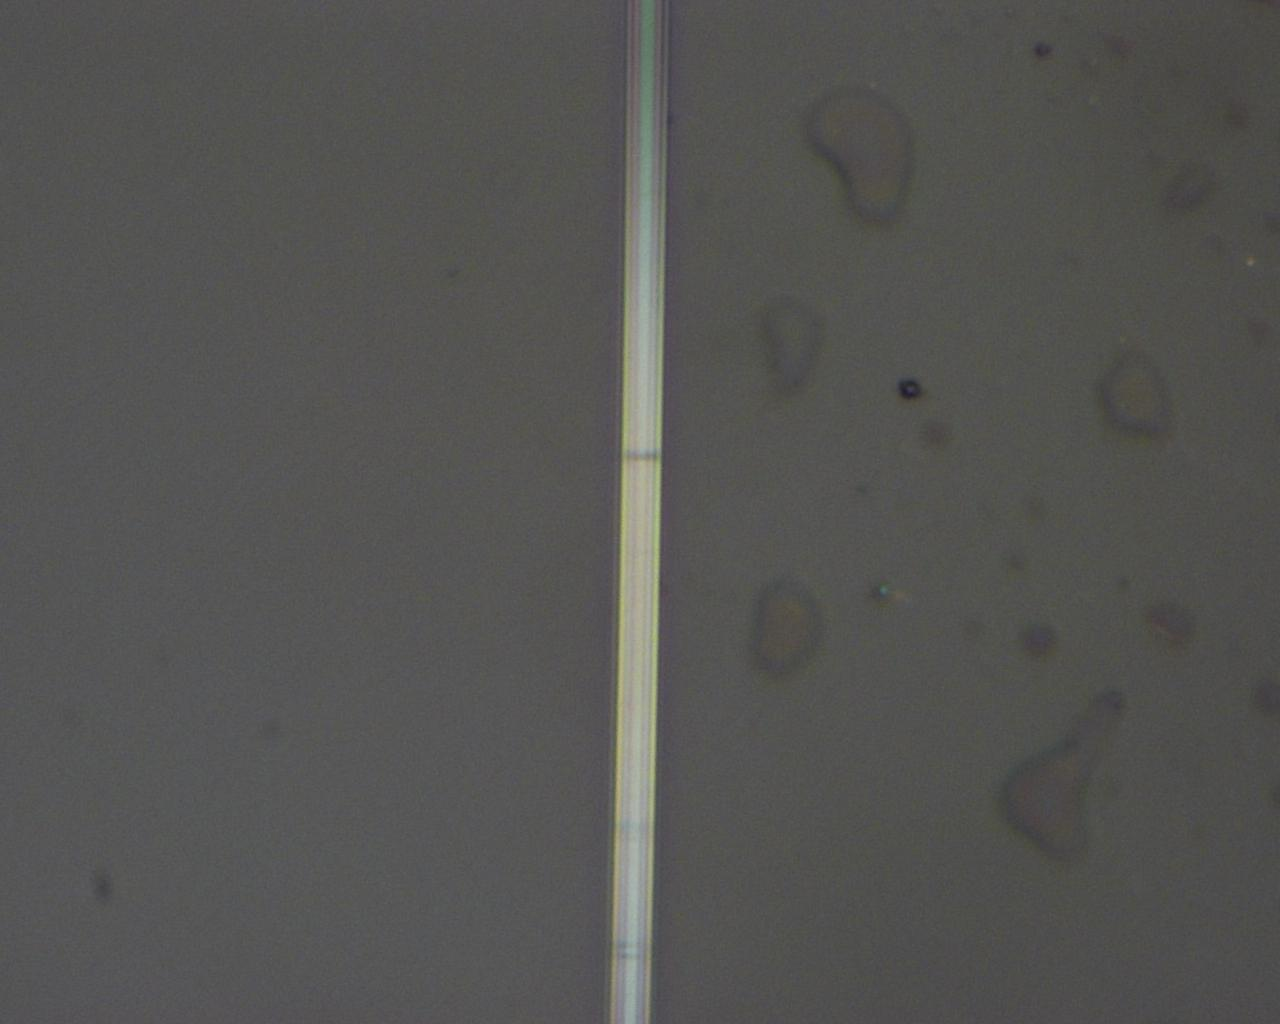fiber: (605, 0, 667, 1024)
